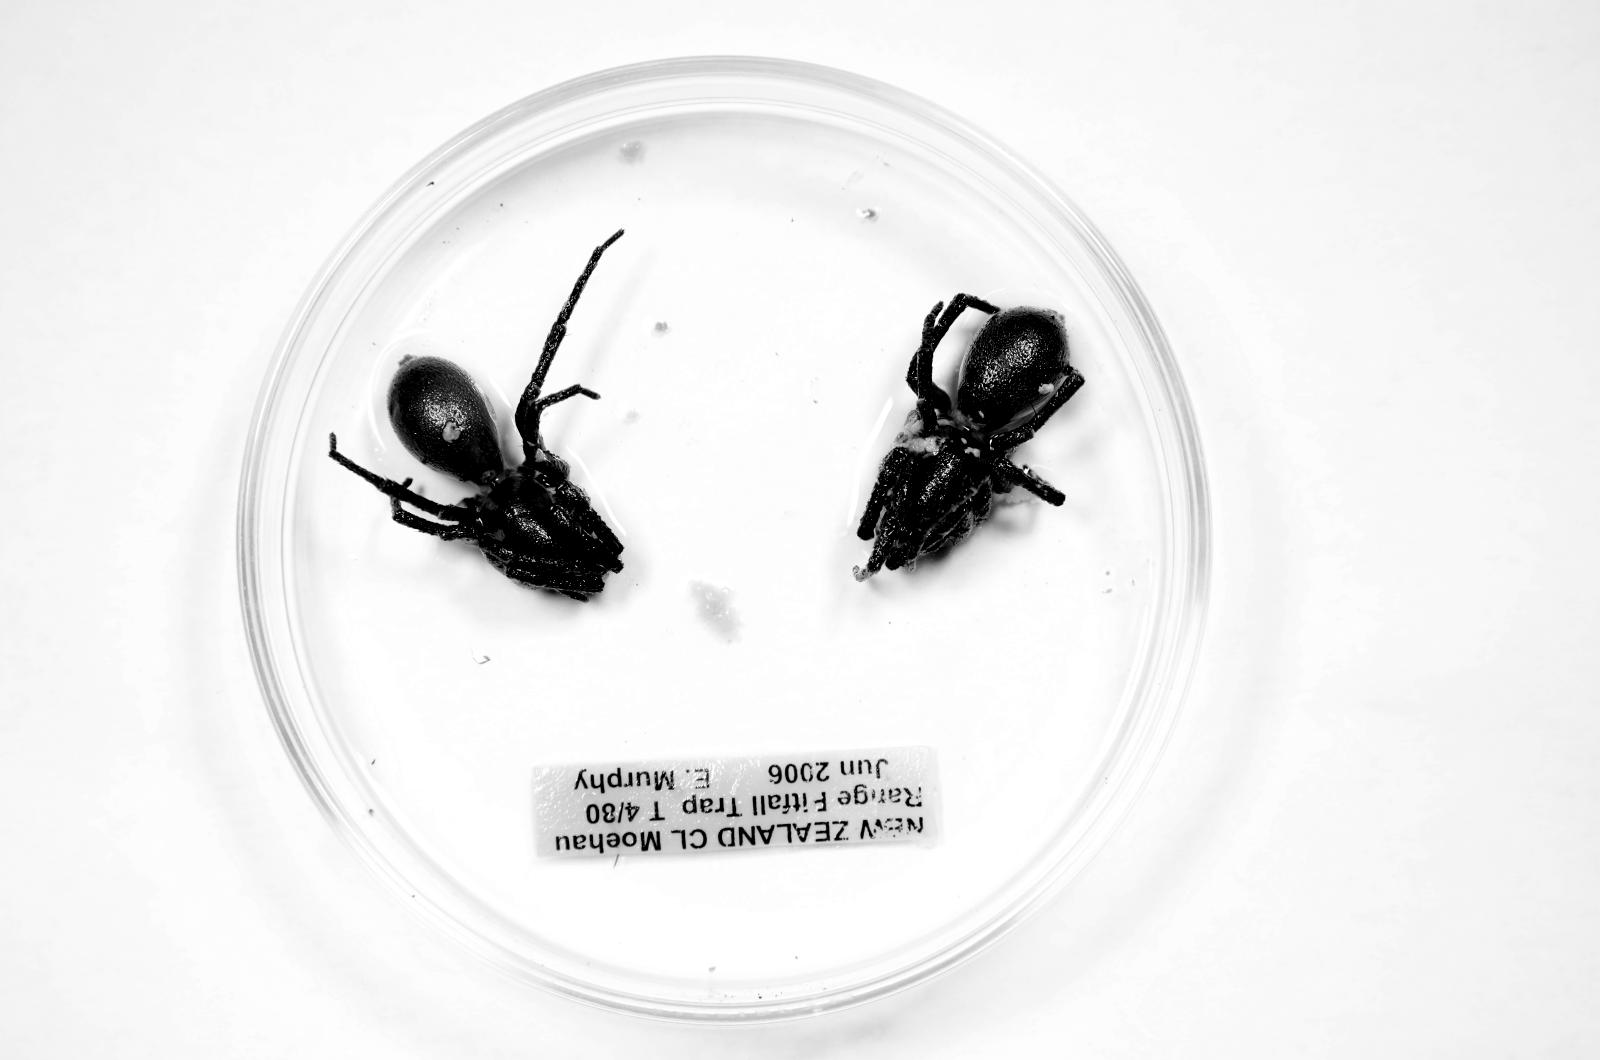araneae: (330, 230, 623, 600), (854, 295, 1084, 581)
